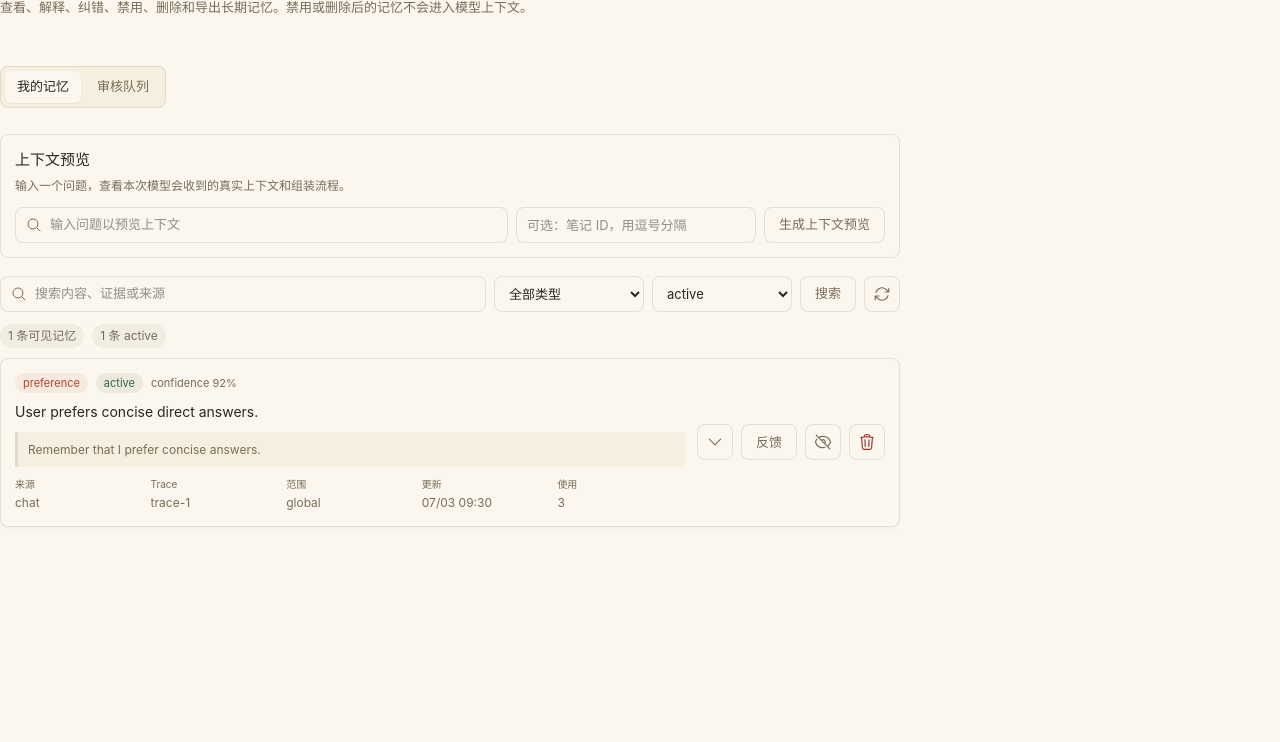
Test: MemoryControlPanel behavior › renders metadata explanations and loads per-memory events only when expanded
expect the text "User prefers concise direct answers." is shown: met, box [15,403,258,420]
Step 1. Click the button named "展开解释 1" → (715, 442), box [697,424,733,460]
(page scrolled)
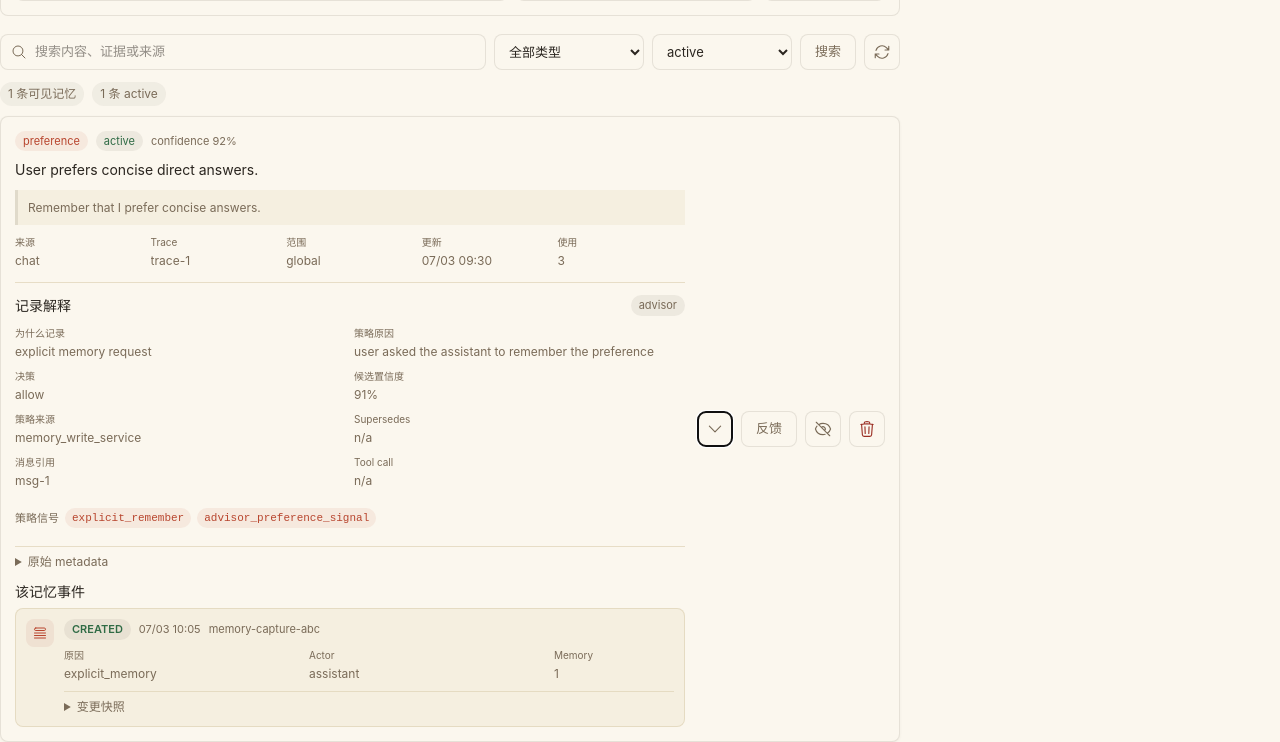
expect the text "explicit memory request" is shown: met, box [15,344,152,359]
expect the text "user asked the assistant to remember the preference" is shown: met, box [354,343,685,361]
expect the text "advisor" is shown: met, box [631,295,685,316]
